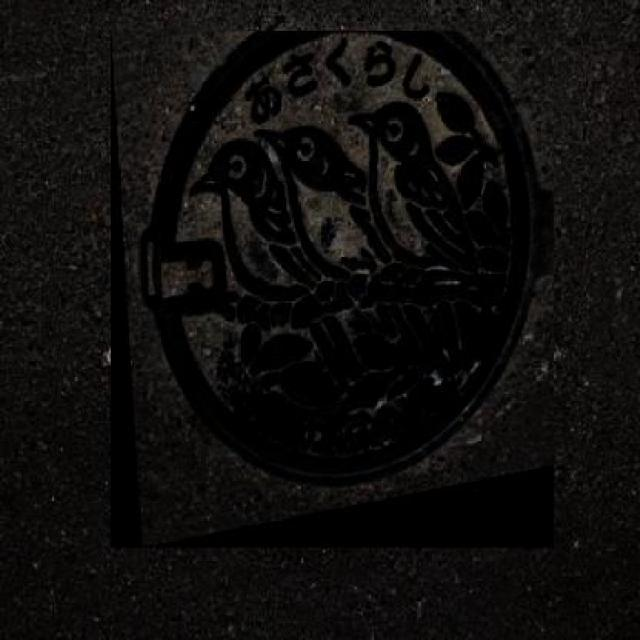Manhole: (110, 31, 555, 548)
